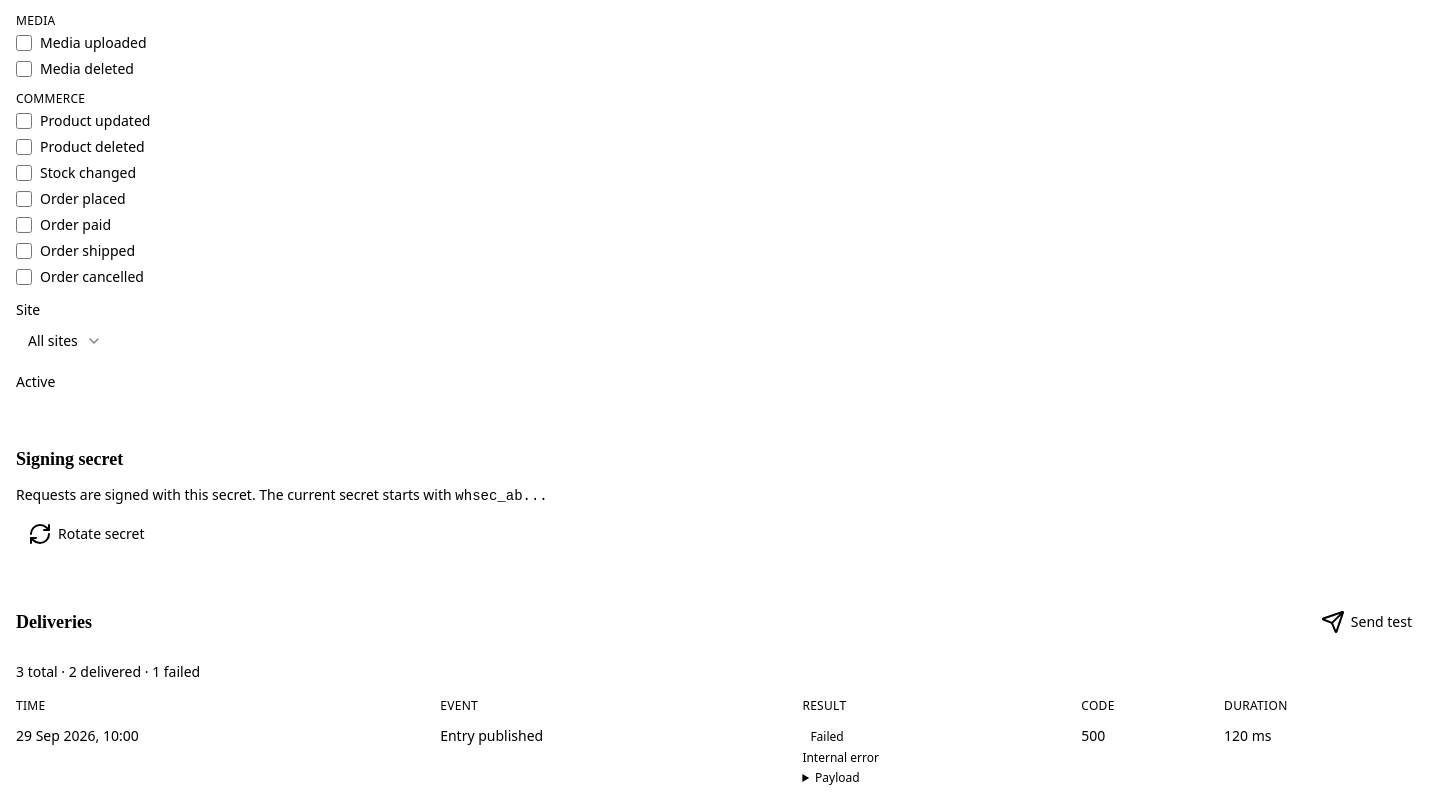
rotates the secret after confirming and shows the new one
(page scrolled)
Click the button "Rotate secret" at x=86, y=534, box top-left (16, 518), bottom-right (156, 550)
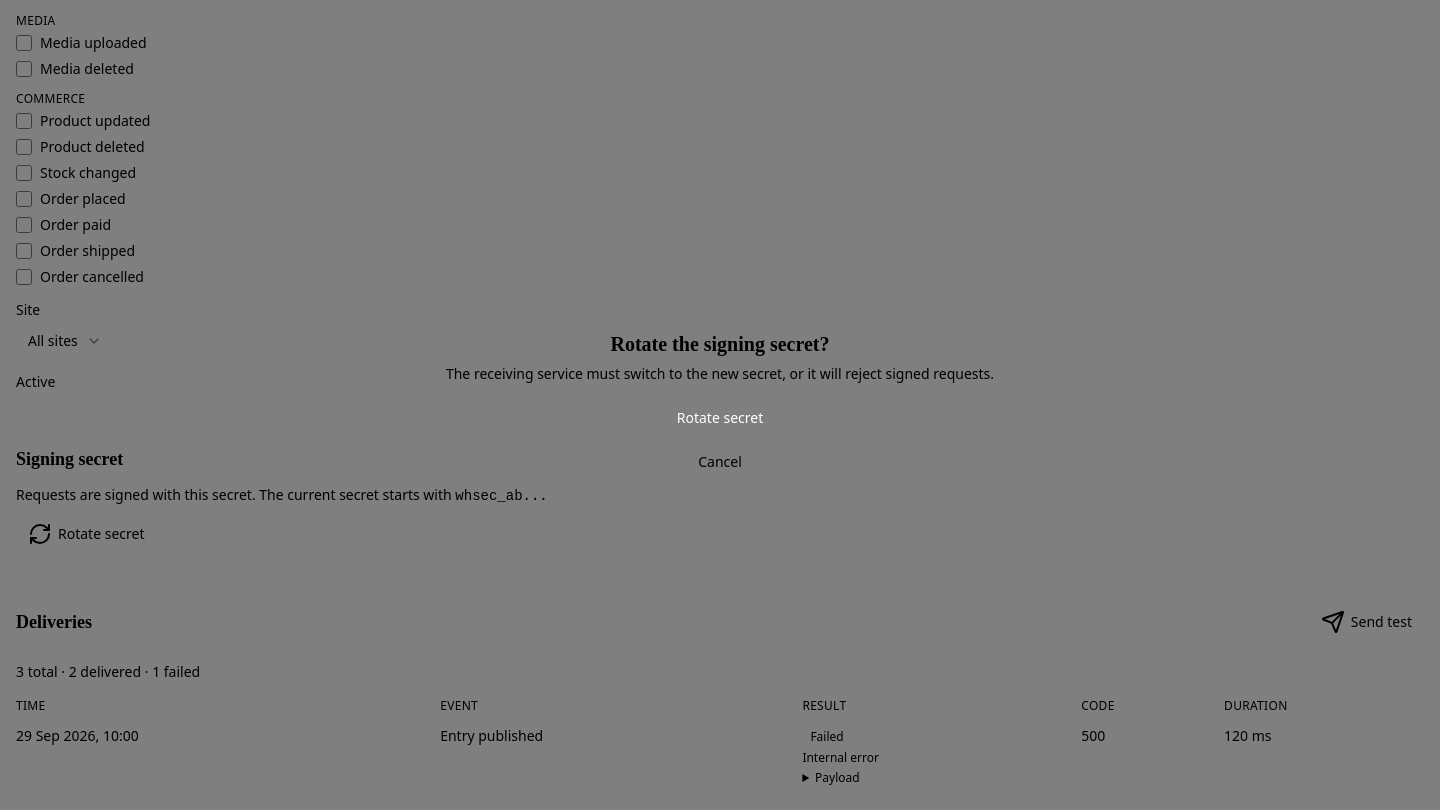
Click the button "Rotate secret" at x=720, y=418, box top-left (40, 400), bottom-right (1400, 436)
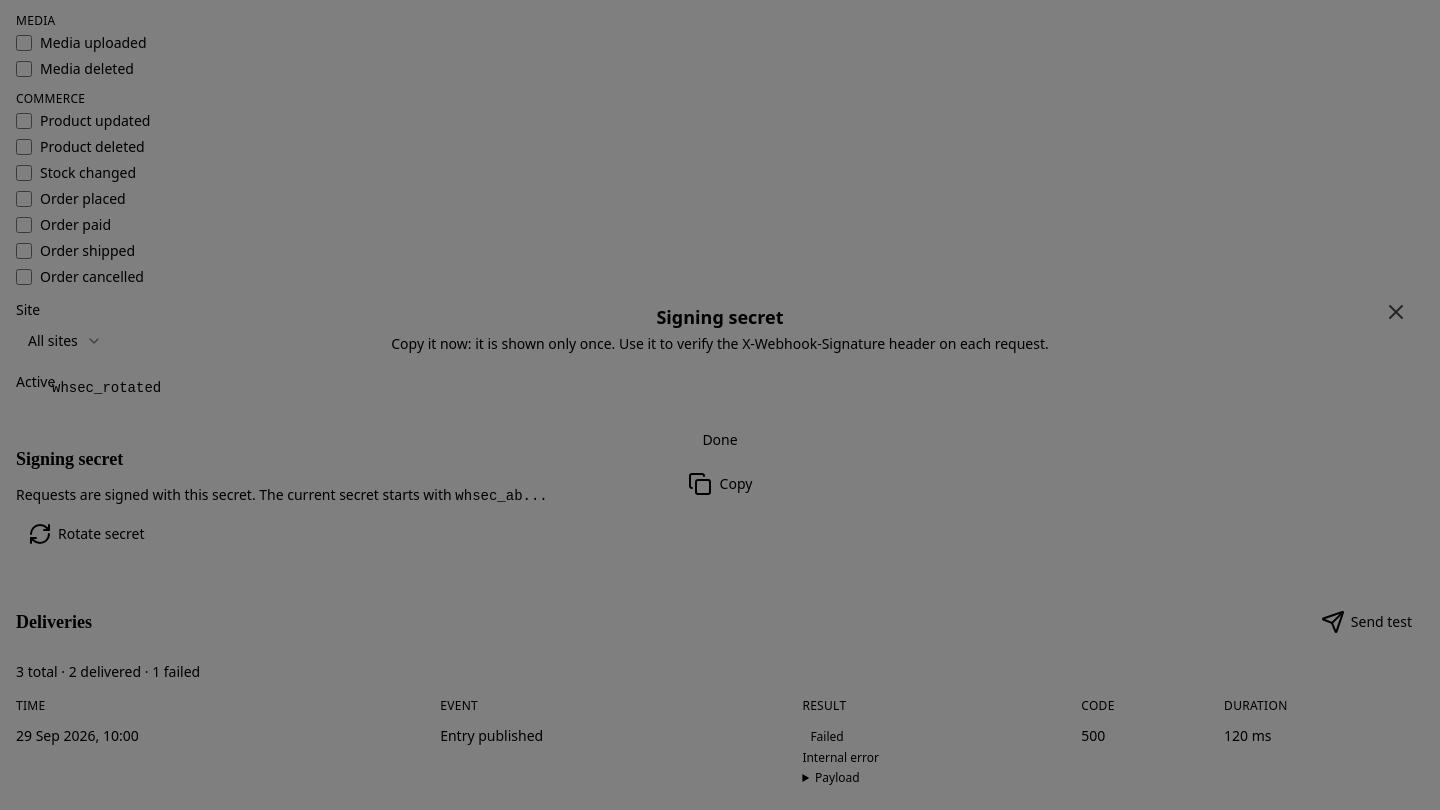
Now the dialog "Signing secret" shows "whsec_rotated", box top-left (52, 380), bottom-right (161, 396)
